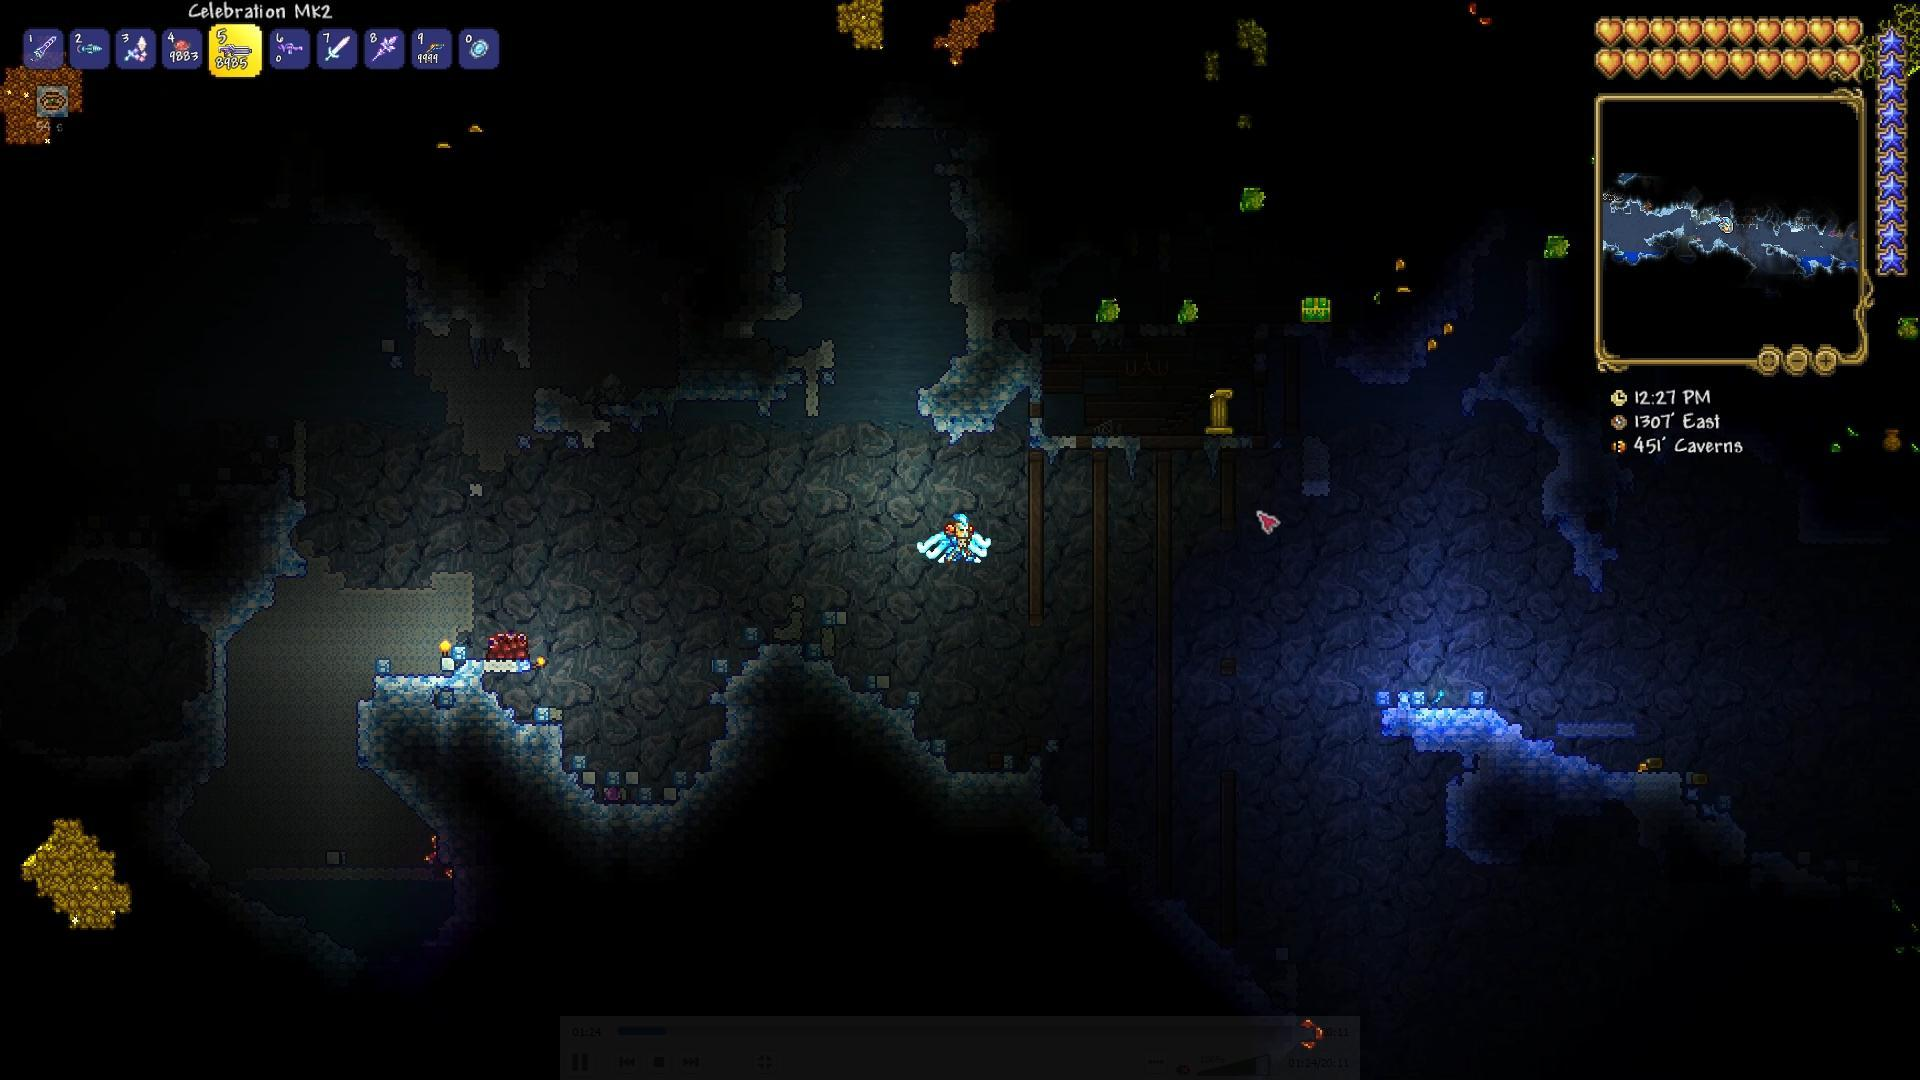altar: (484, 624, 533, 662)
chest: (1298, 291, 1333, 324)
pot: (1240, 182, 1274, 218), (1543, 232, 1575, 266), (1095, 294, 1124, 328), (1174, 294, 1205, 324)
